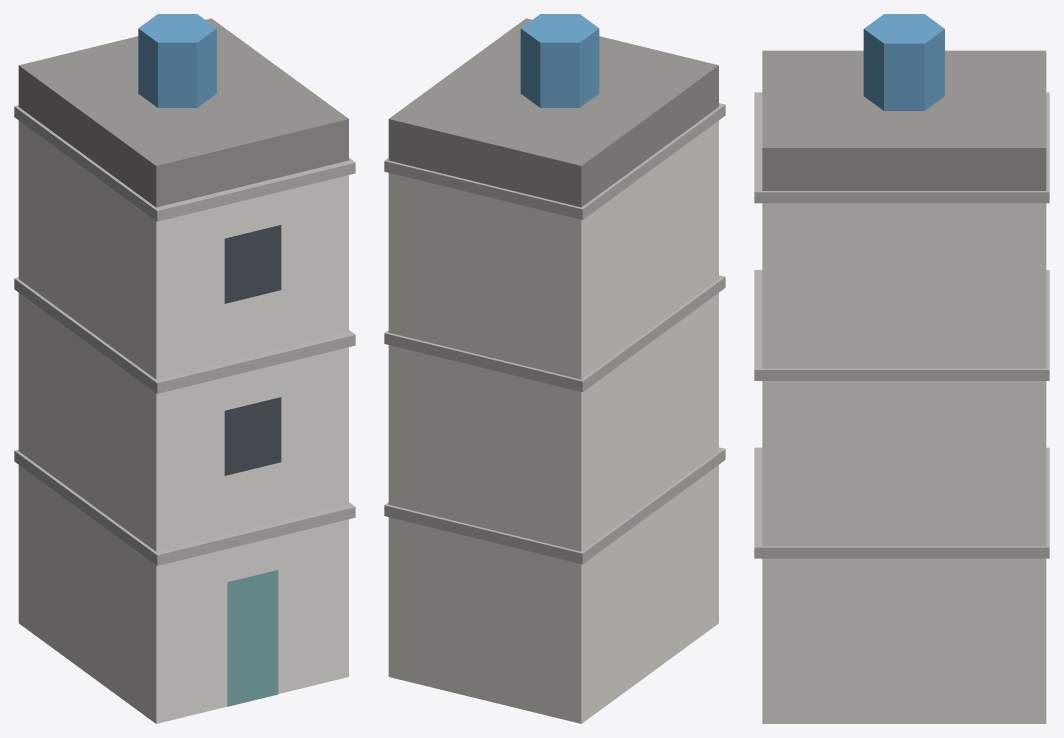
The picture shows the model from 3 angles, left to right: view 1: azimuth 30°, elevation 25°; view 2: azimuth 150°, elevation 25°; view 3: azimuth 270°, elevation 25°; orthographic projection. The views are drawn at different scales.
Parts seen in each view (by area): view 1: fv_h08.lod1; view 2: fv_h08.lod1; view 3: fv_h08.lod1.
Part boxes in pixels (x1=…): fv_h08.lod1: x1=14, y1=14, x2=355, y2=723; fv_h08.lod1: x1=384, y1=14, x2=725, y2=723; fv_h08.lod1: x1=754, y1=14, x2=1049, y2=723.
Bounding box in the file's own units: 3.5 × 10.5 × 4.37.
